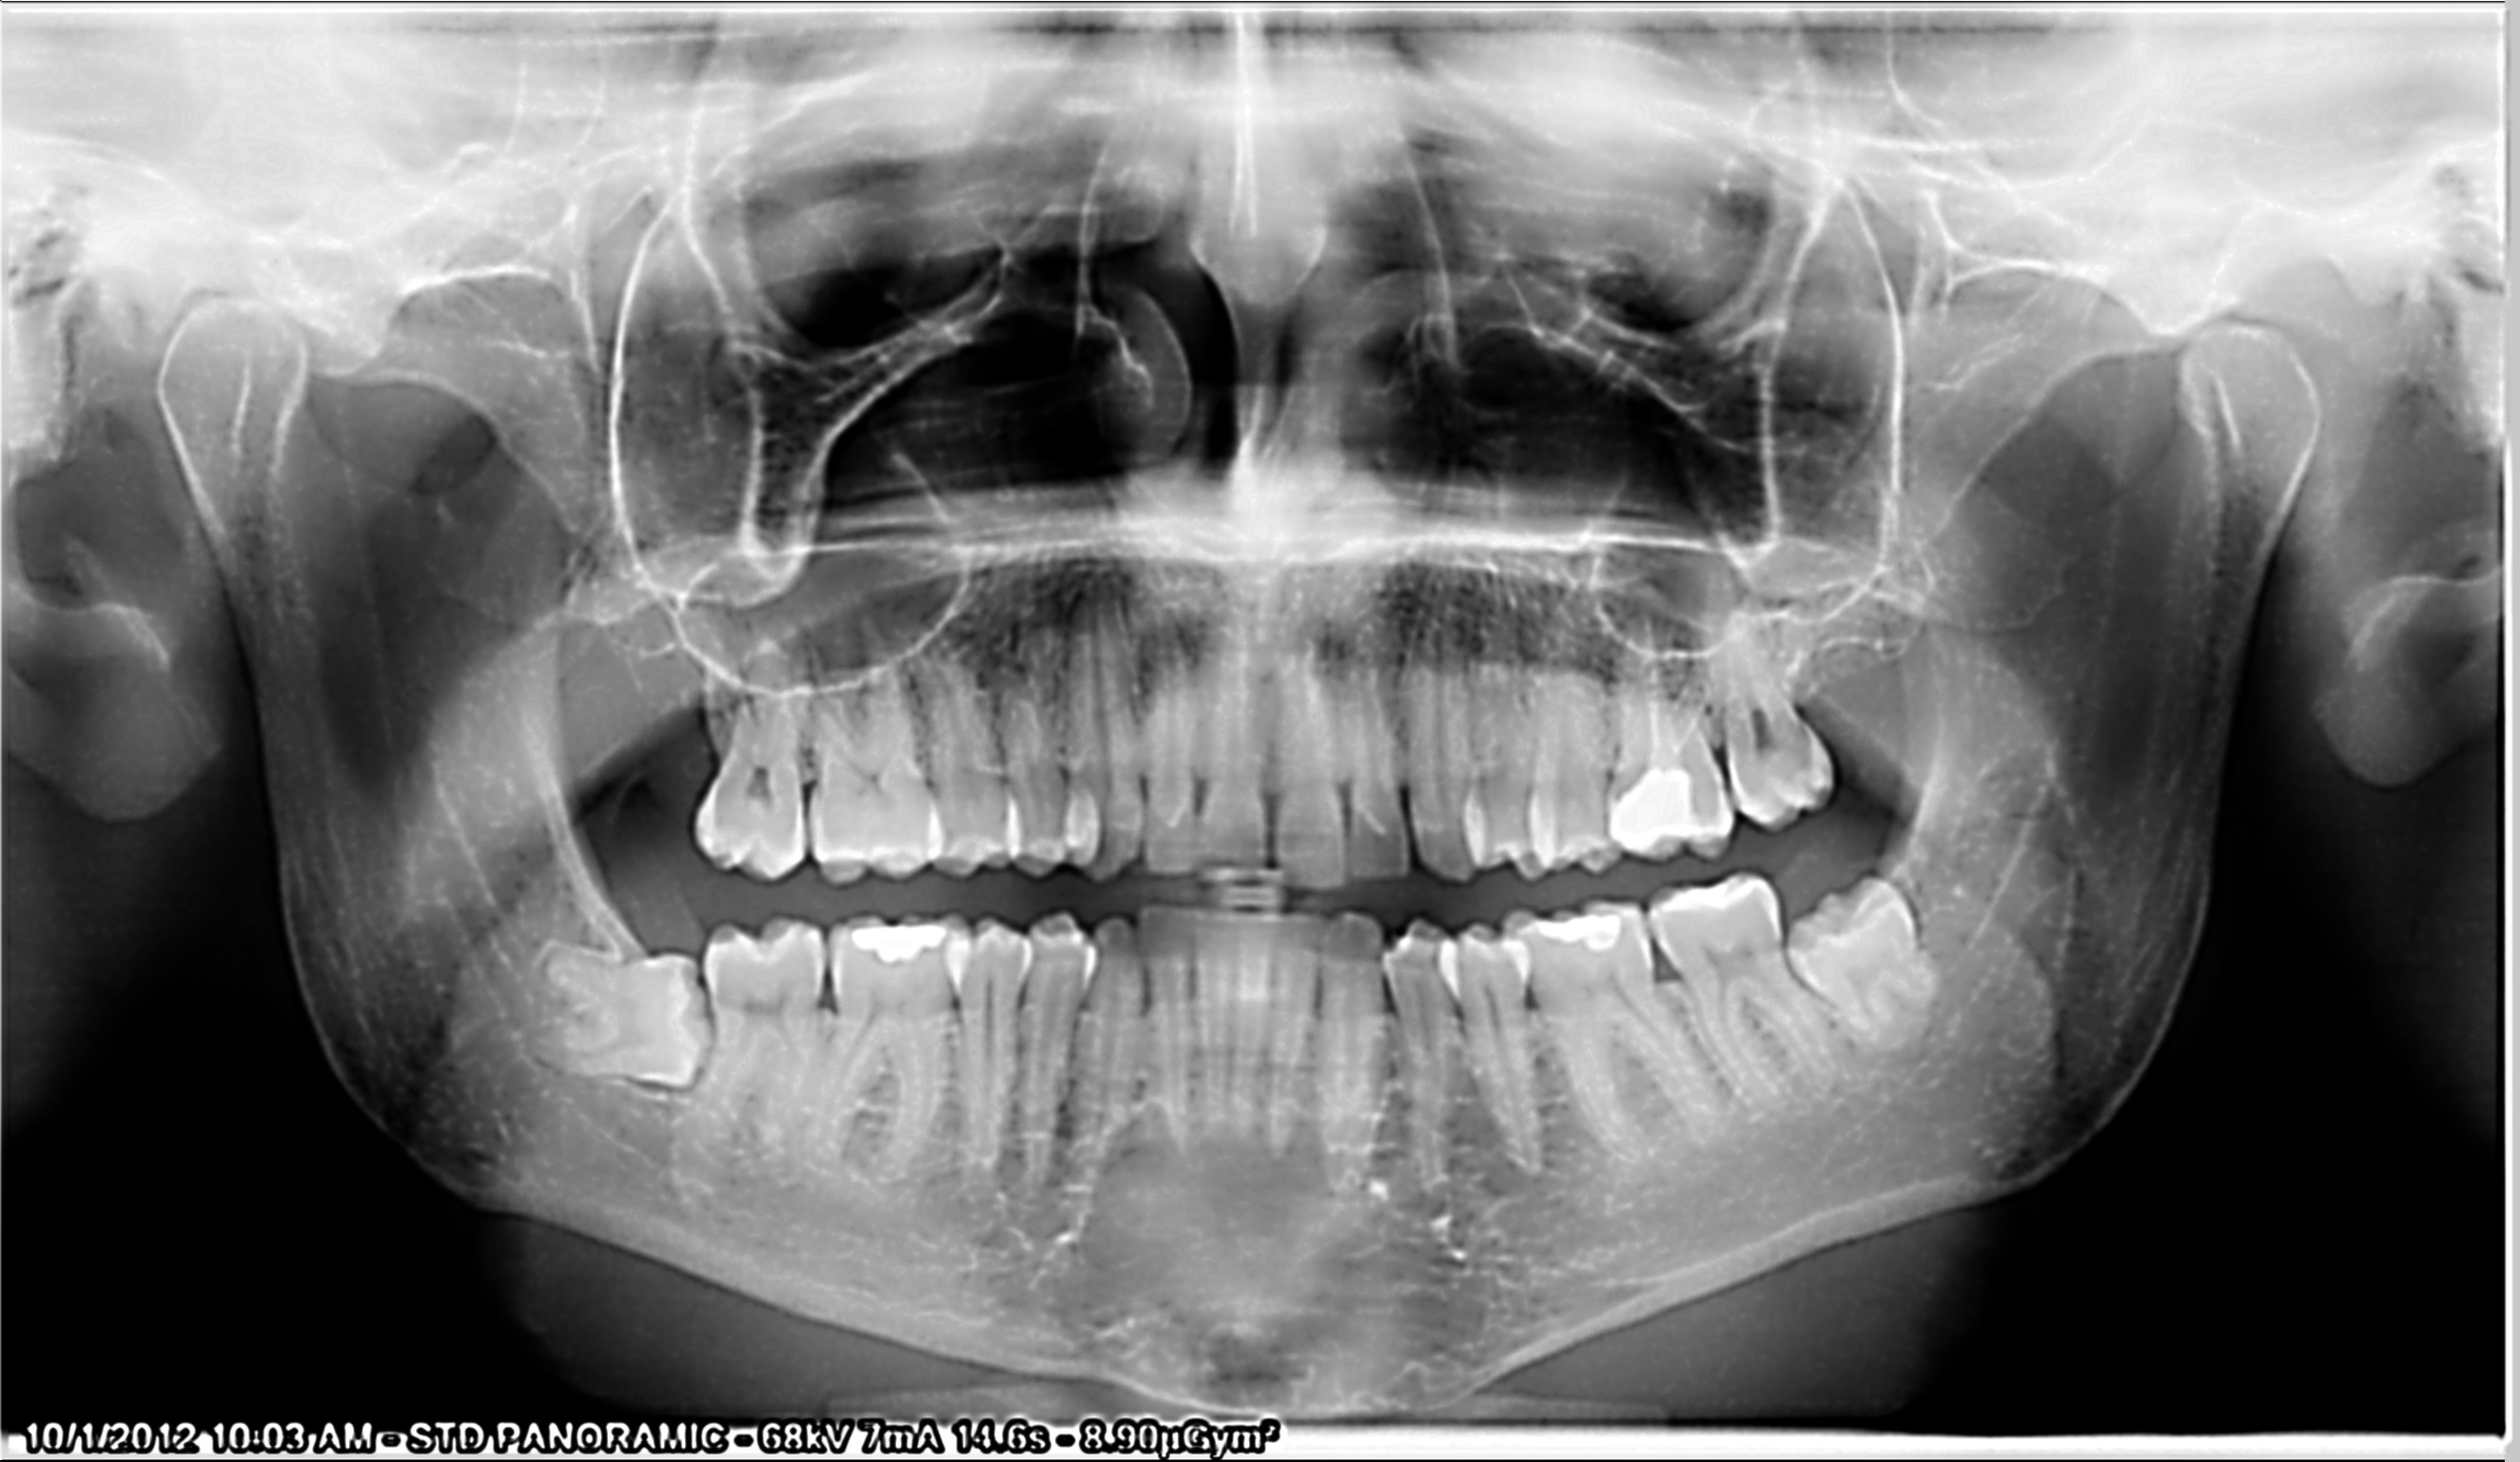END: (1624, 590, 1725, 762)
IMT: (499, 924, 731, 1117), (1763, 855, 1949, 1065)
OBT: (1598, 748, 1712, 874), (825, 903, 962, 978), (1511, 902, 1646, 968)
